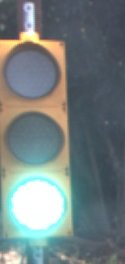Green: (2, 25, 90, 255)
